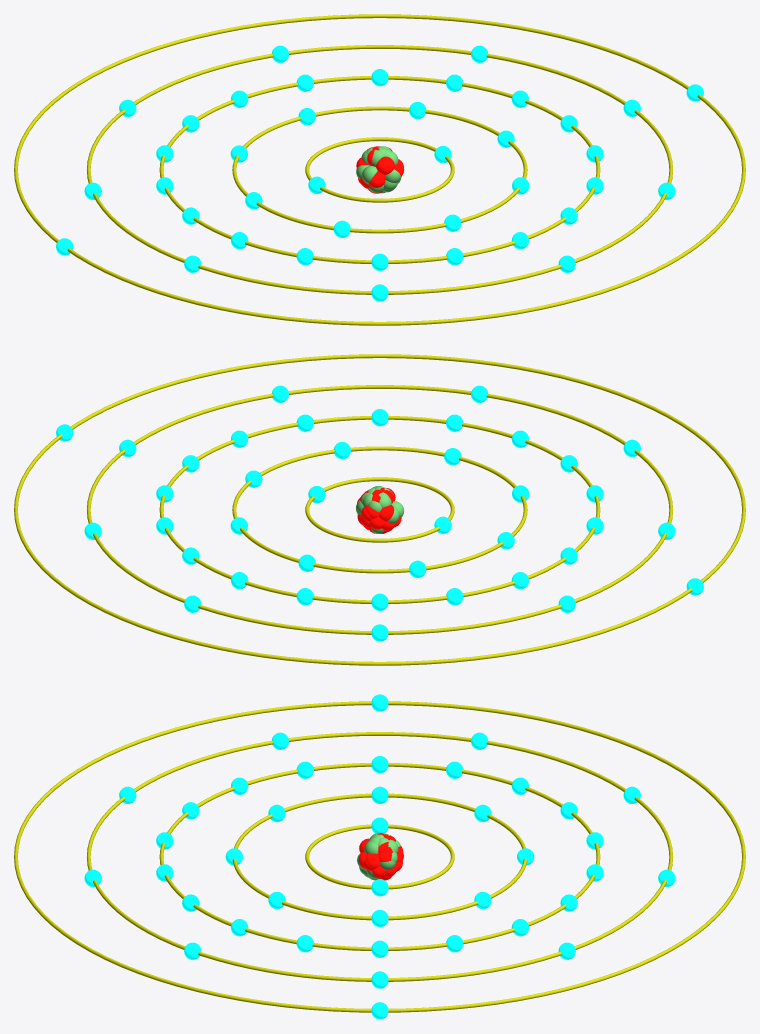
The model's file is atomo_39.glb.
3 renders of one model, top to bottom at view 1: azimuth 30°, elevation 25°; view 2: azimuth 150°, elevation 25°; view 3: azimuth 270°, elevation 25°, orthographic.
Visible parts, largest first — view 1: orbital_5, orbital_4, orbital_3, orbital_2, orbital_1; view 2: orbital_5, orbital_4, orbital_3, orbital_2, orbital_1; view 3: orbital_5, orbital_4, orbital_3, orbital_2, orbital_1.
Boxes of the visible parts, <box> form: orbital_5: <box>14,14,745,325</box>; orbital_4: <box>87,45,672,294</box>; orbital_3: <box>159,76,600,263</box>; orbital_2: <box>232,106,527,233</box>; orbital_1: <box>305,137,454,202</box>; orbital_5: <box>14,354,745,665</box>; orbital_4: <box>87,385,672,634</box>; orbital_3: <box>159,416,600,603</box>; orbital_2: <box>232,446,527,573</box>; orbital_1: <box>305,477,454,542</box>; orbital_5: <box>14,701,745,1012</box>; orbital_4: <box>87,732,672,981</box>; orbital_3: <box>159,763,600,950</box>; orbital_2: <box>232,793,527,920</box>; orbital_1: <box>305,824,454,889</box>.
Size of the model in its own units: 15.36 by 0.9989 by 15.08.
